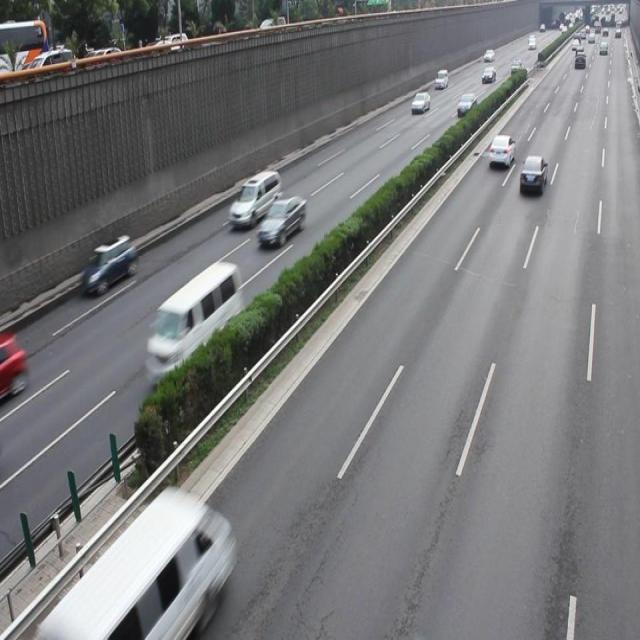car: (80, 234, 136, 295), (257, 195, 305, 246), (518, 155, 546, 196), (486, 134, 514, 169)
truck: (72, 492, 230, 640), (144, 262, 241, 384), (228, 170, 281, 228)
